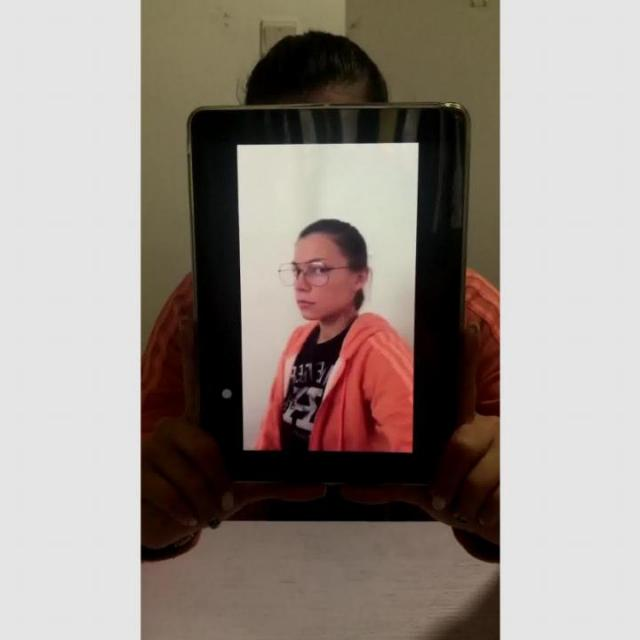device: (180, 99, 477, 485)
